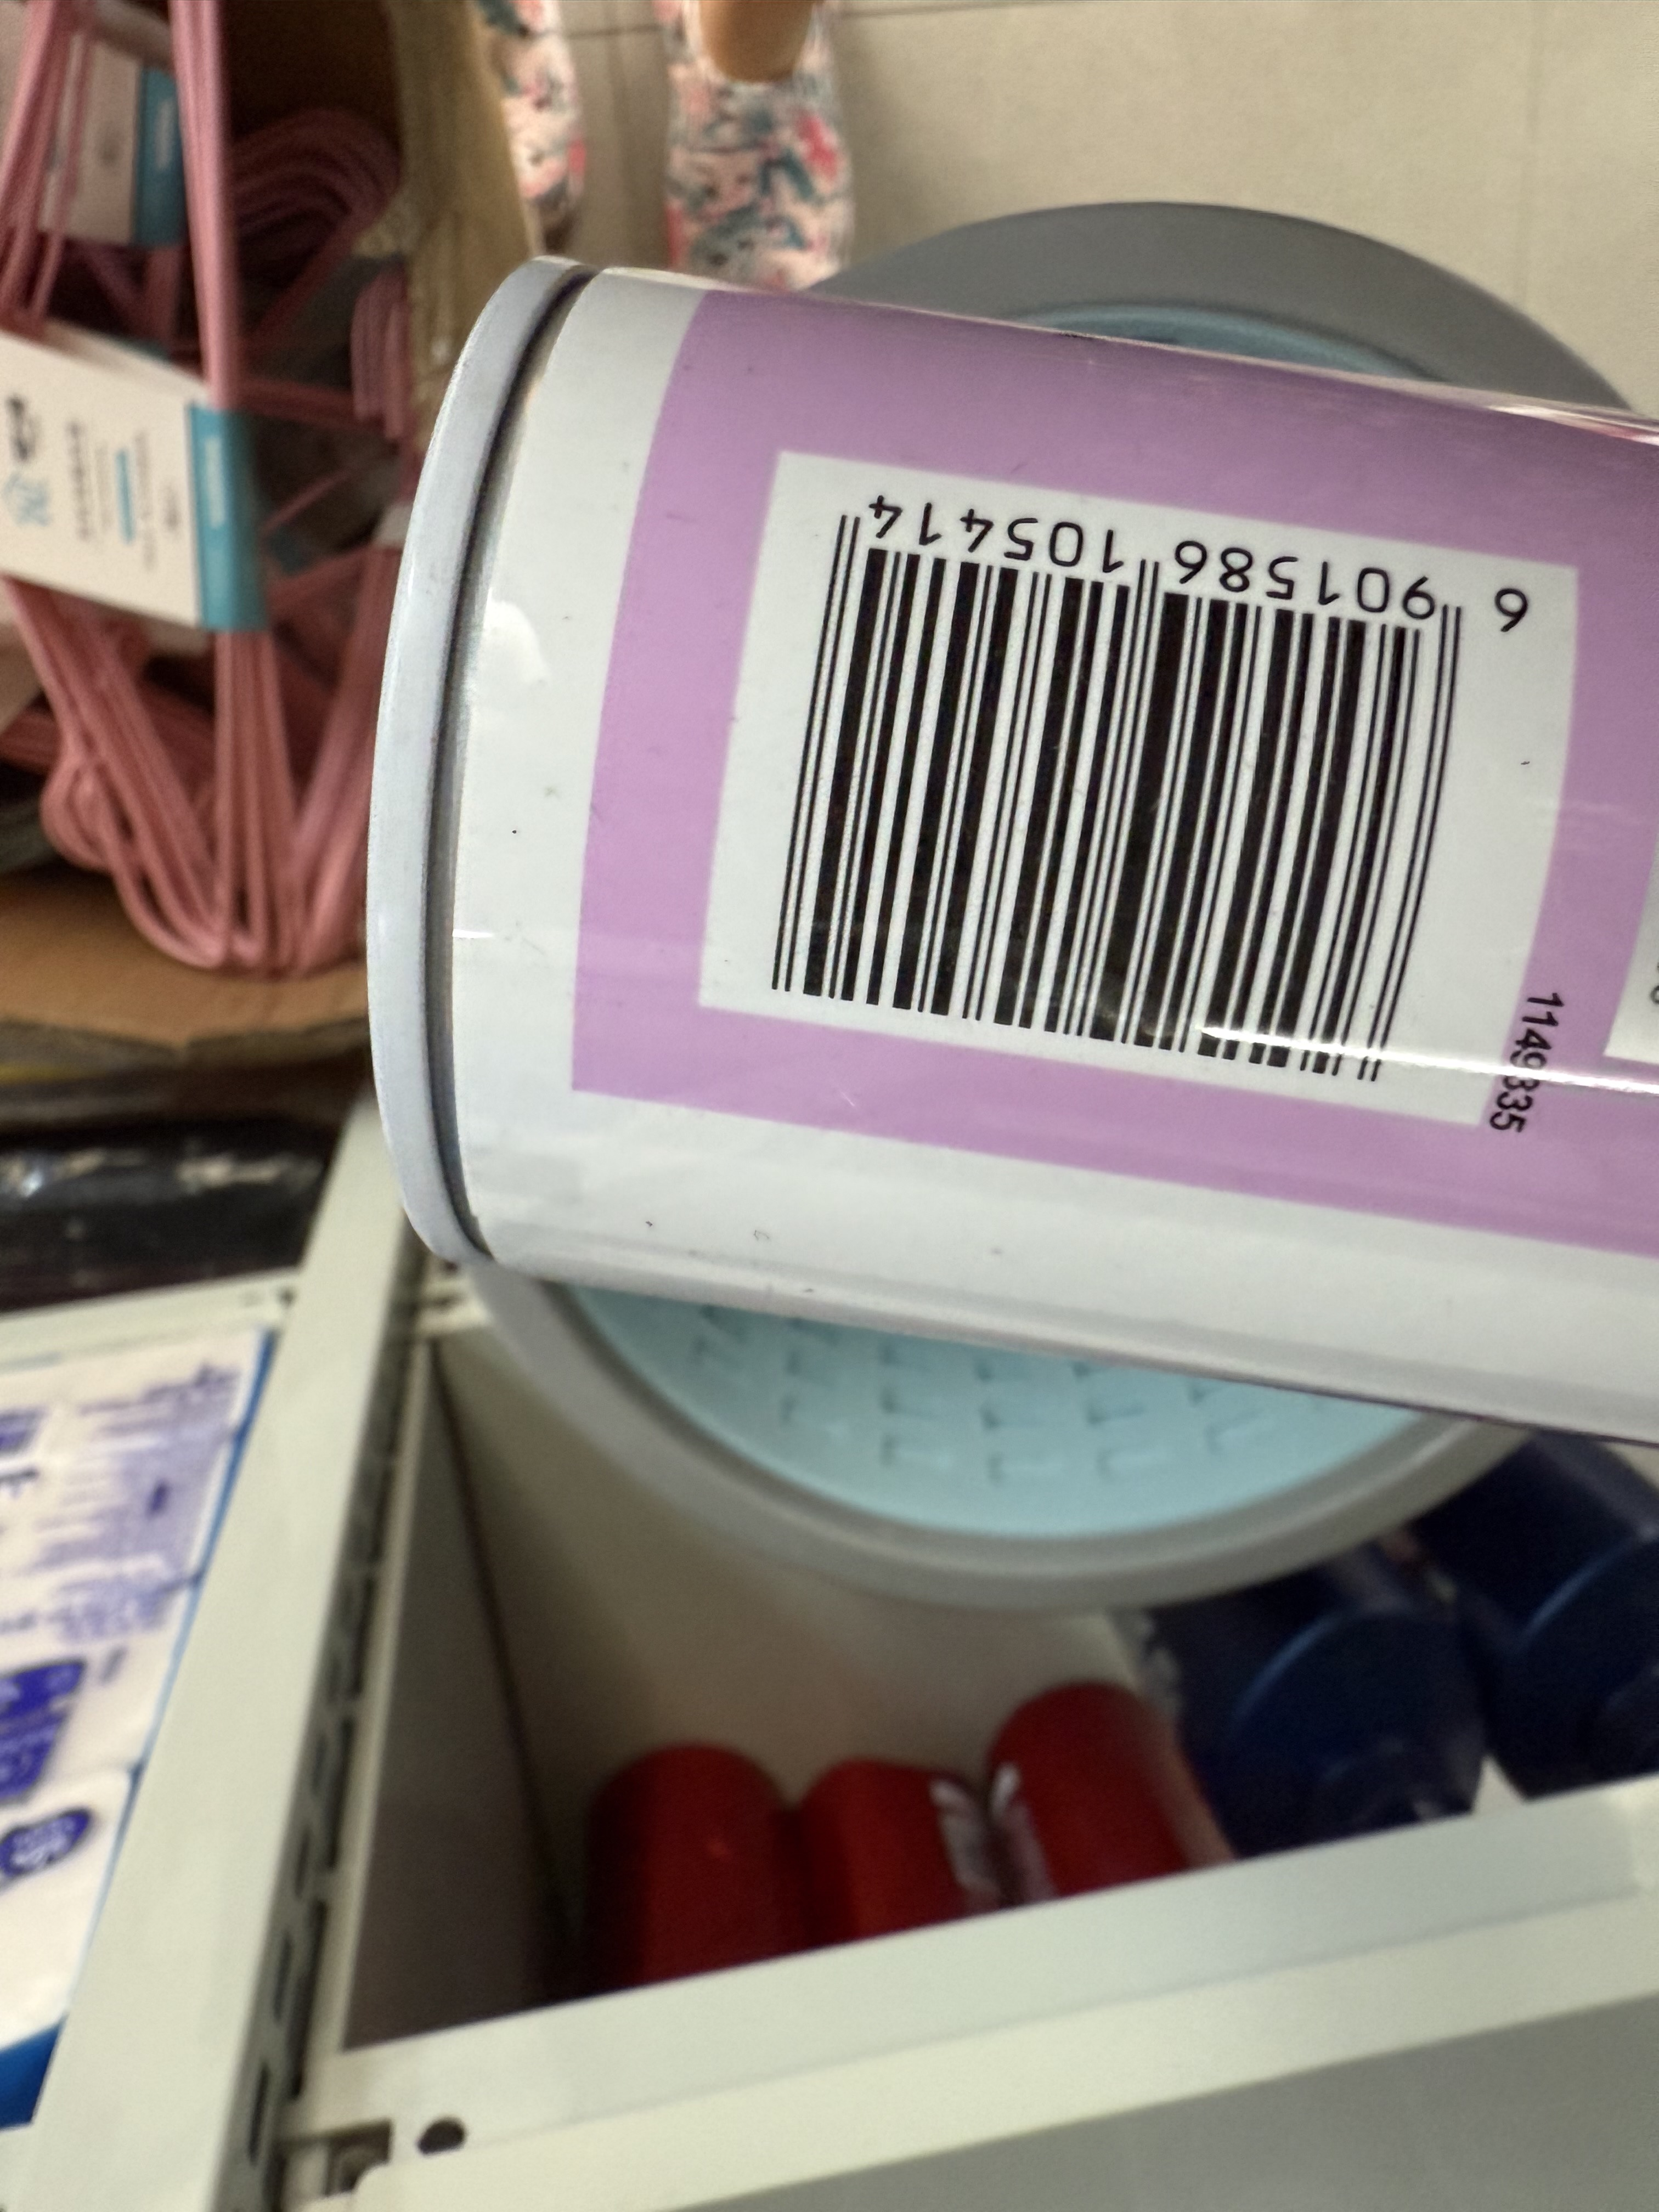bar: (758, 484, 1469, 1097)
